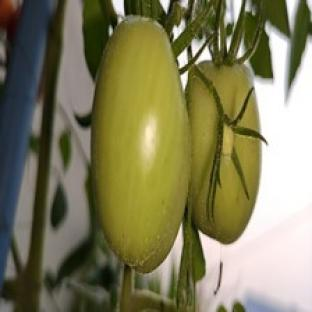Tomato: (91, 17, 190, 272), (187, 72, 260, 243)
